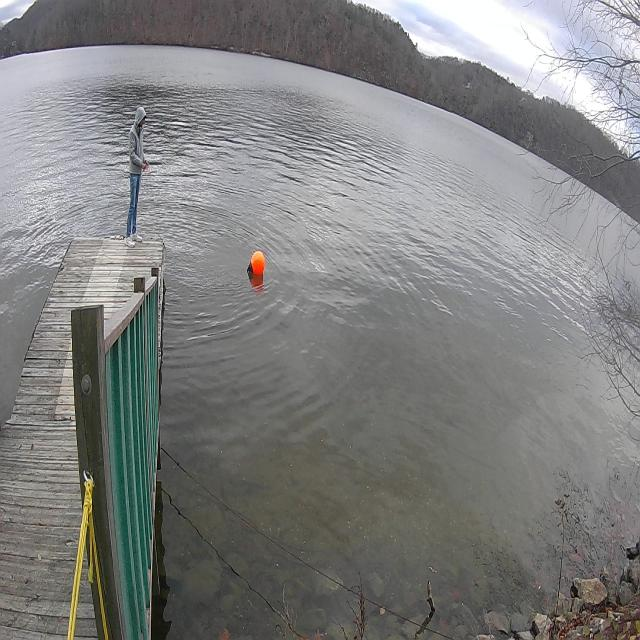Buoy: (245, 246, 270, 283)
